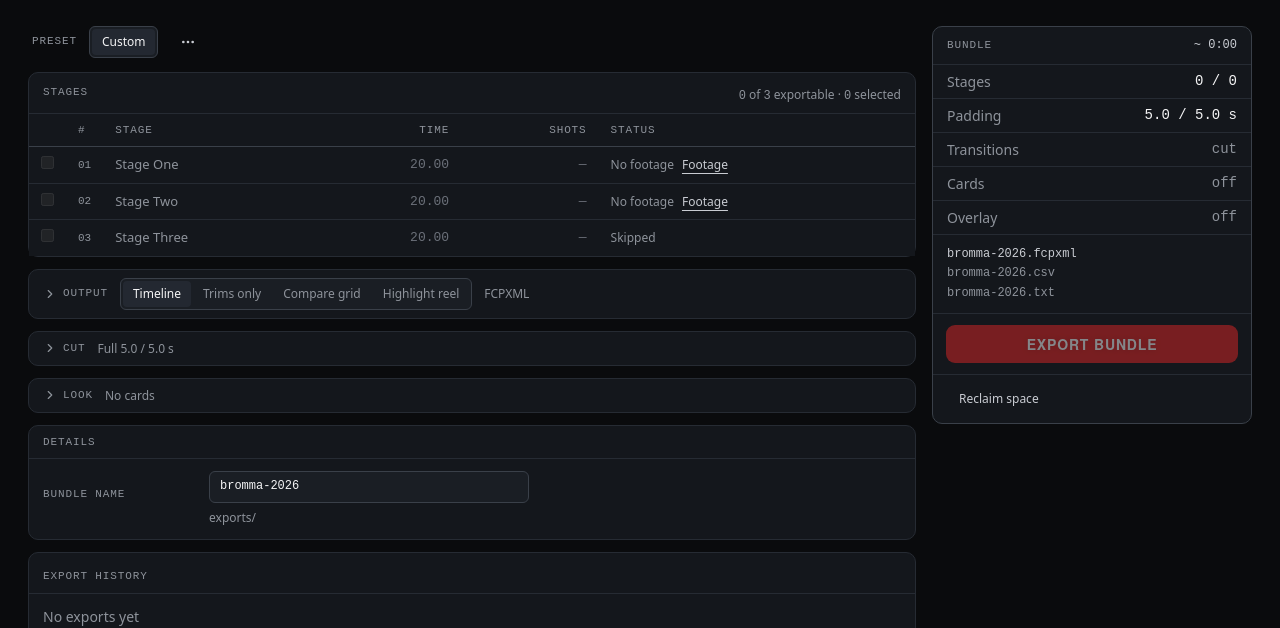
Test case: Export compare grid mode › shows a partial render as a success with the failed stages named, never as a failure
Click the button "Compare grid" at (322,294), box [273,281,371,307]
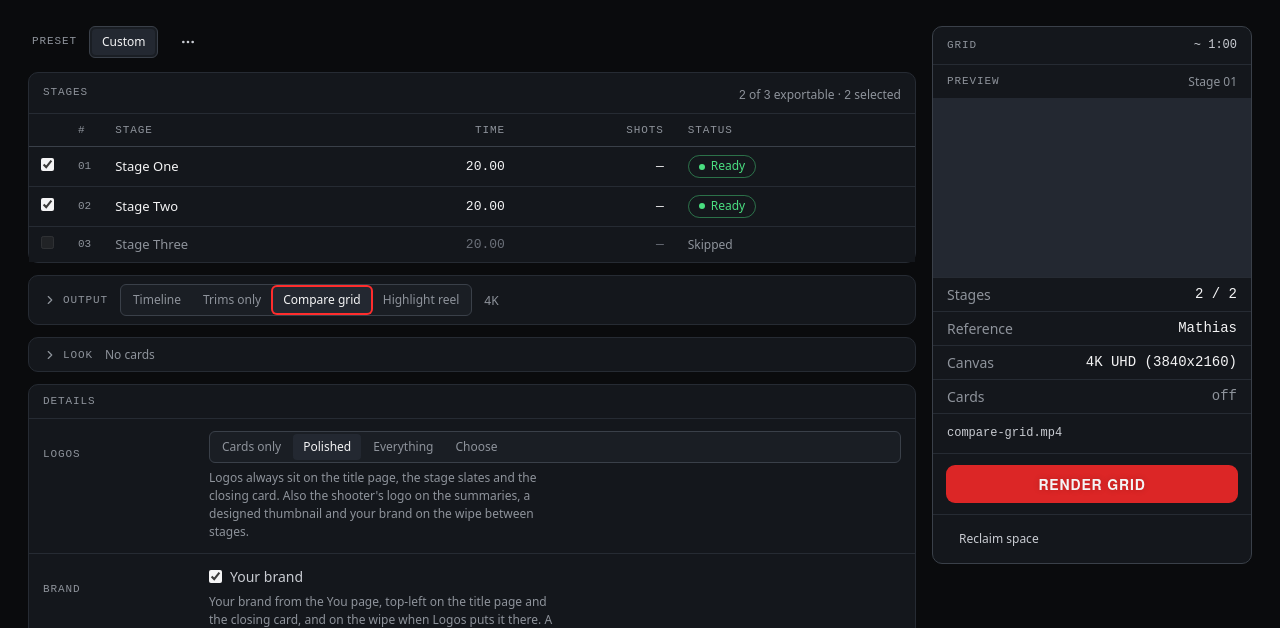
Now the checkbox named "Stage Two" is checked, box [41,198,54,211]
Click the button "Output" at (75,300), box [43,292,108,308]
(page scrolled)
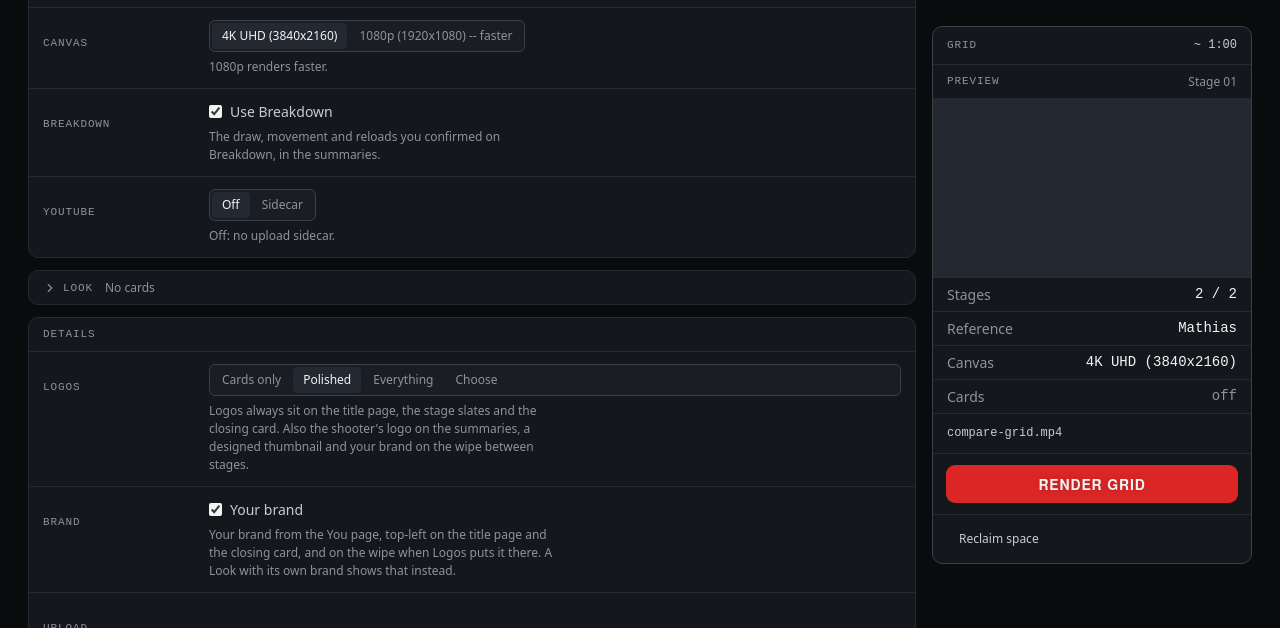
Click the button "Look" at (68,288), box [43,280,93,296]
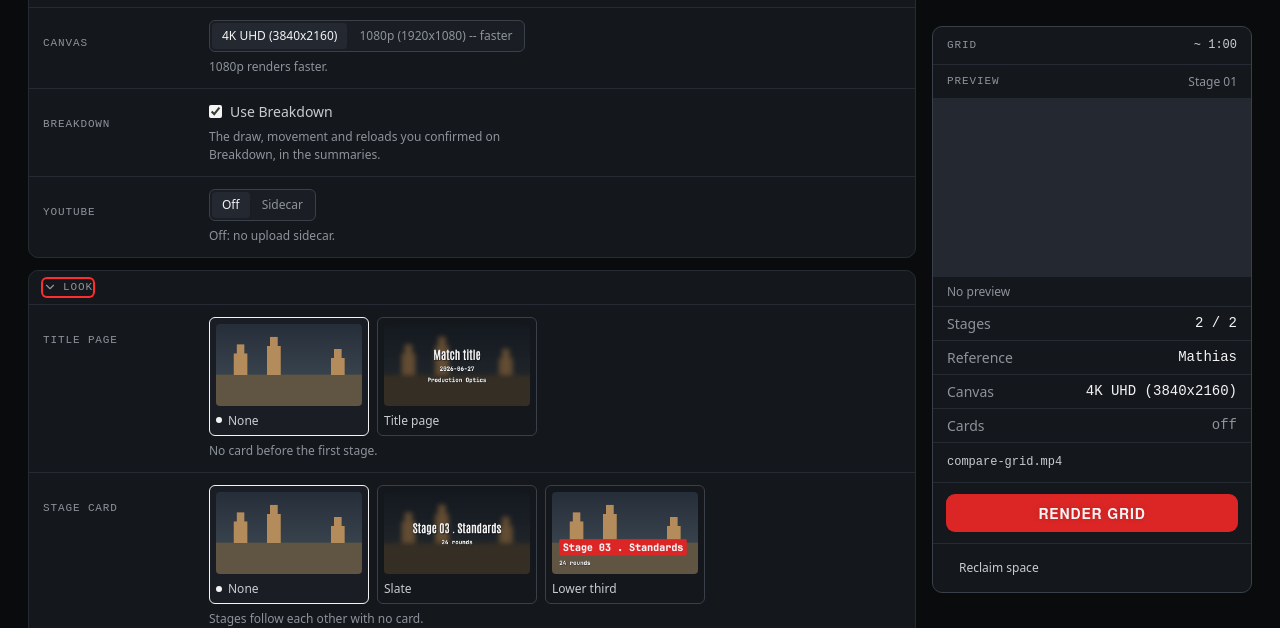
Click the button "Render grid" at (1092,513), box [947,495,1237,531]
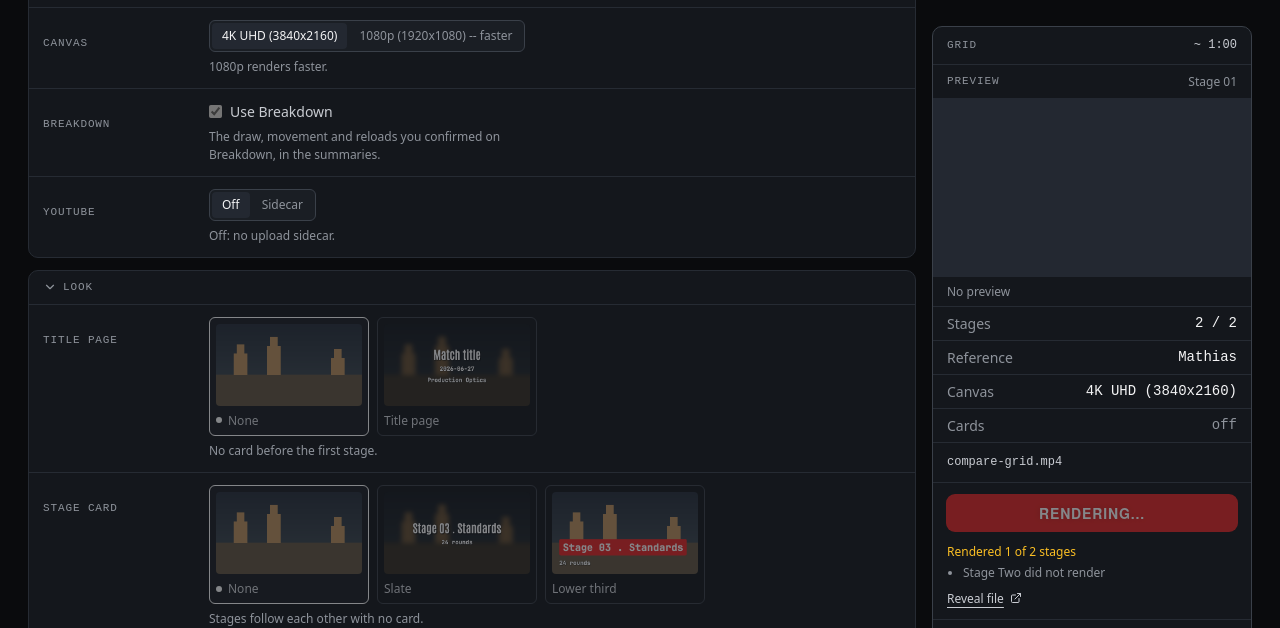
Now the text "Rendered 1 of 2 stages" is shown, box [947,543,1076,560]
Now the list item "Stage Two did not render" is shown, box [963,564,1105,581]
Now the button "Reveal file" is shown, box [947,589,1022,606]
